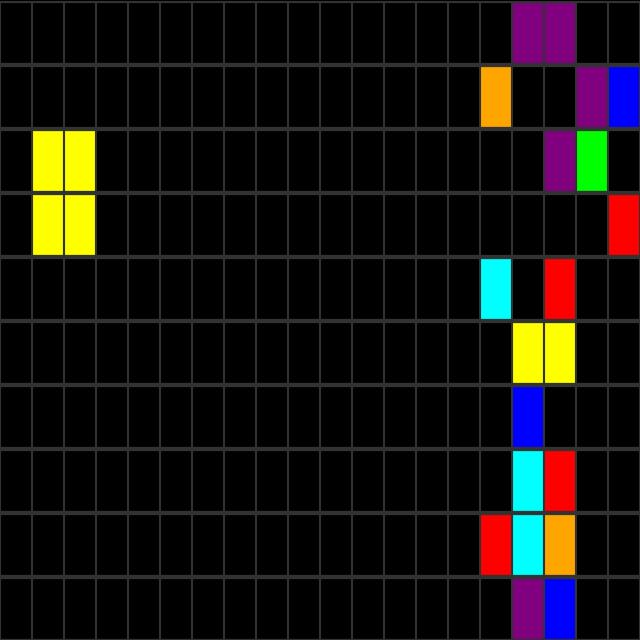Tetrimino_O: (34, 132, 96, 256)
